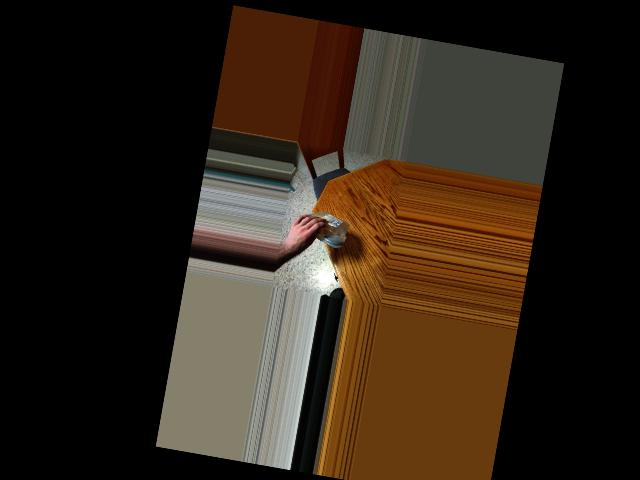cheese: (294, 209, 337, 248)
